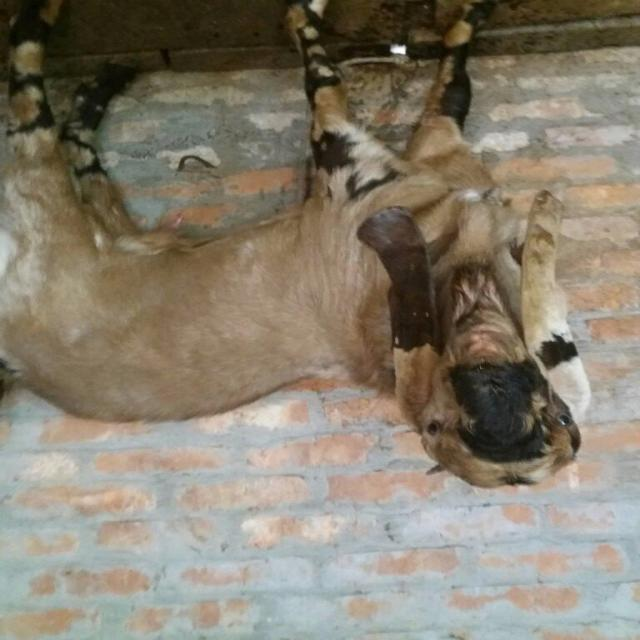Goat: (0, 1, 590, 491)
